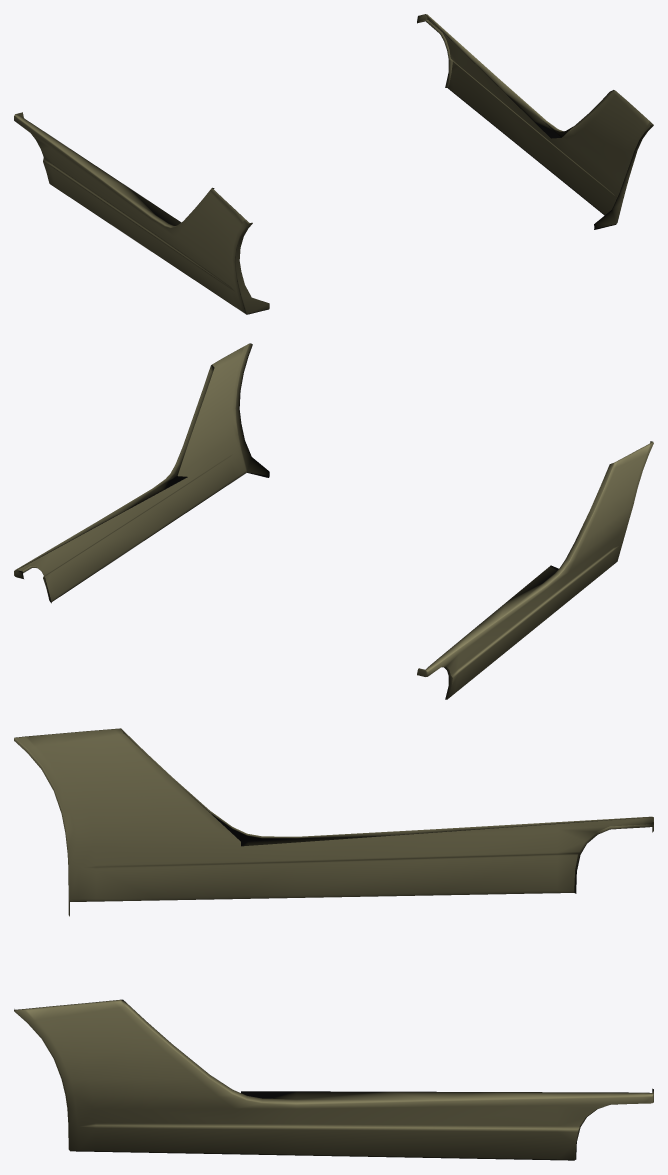
Rendered from Viper_Skirt_04_Duco.fbx.
3 views of the same model, one above another, from view 1: azimuth 30°, elevation 25°; view 2: azimuth 150°, elevation 25°; view 3: azimuth 270°, elevation 25° (orthographic). The views are drawn at different scales.
Parts seen in each view (by area): view 1: Viper_Skirt_04_Duco; view 2: Viper_Skirt_04_Duco; view 3: Viper_Skirt_04_Duco.
Part boxes in pixels (left/top/right/bottom): Viper_Skirt_04_Duco: left=14, top=14, right=653, bottom=314; Viper_Skirt_04_Duco: left=14, top=343, right=653, bottom=699; Viper_Skirt_04_Duco: left=14, top=728, right=653, bottom=1160.
Size of the model in its own units: 189 by 51.38 by 183.
